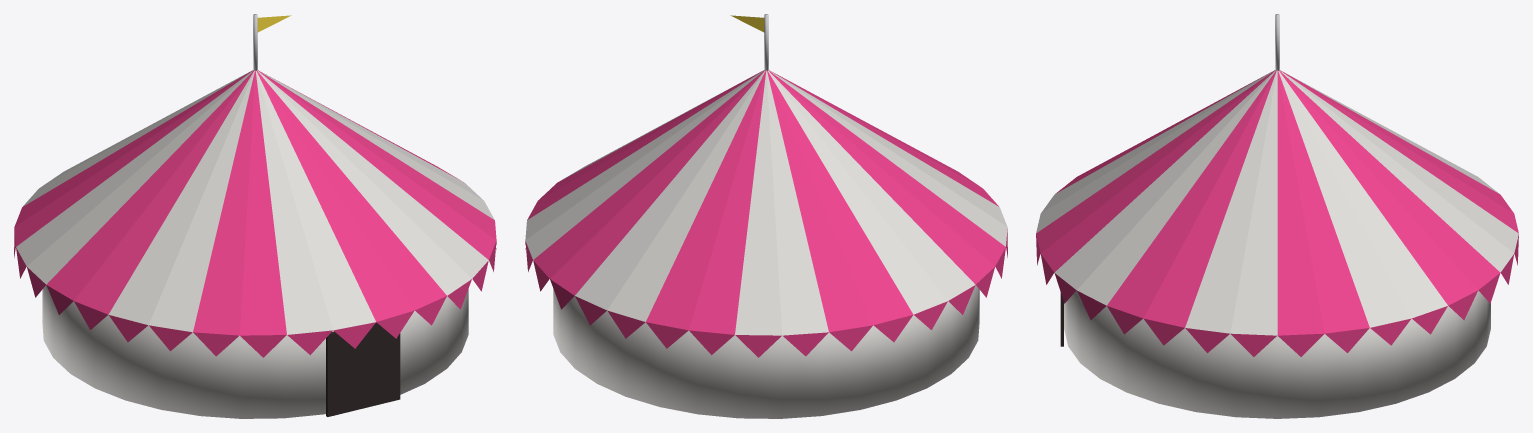
The model's file is tent.glb.
3 views of the same model, side by side, from view 1: azimuth 30°, elevation 25°; view 2: azimuth 150°, elevation 25°; view 3: azimuth 270°, elevation 25° (orthographic).
Parts seen in each view (by area): view 1: tent; view 2: tent; view 3: tent.
Boxes of the visible parts, x1,y1,x2,y2 form: tent: (14, 14, 496, 418); tent: (525, 14, 1007, 418); tent: (1036, 14, 1518, 418).
Size of the model in its own units: 13.8 by 9.9 by 13.8.
